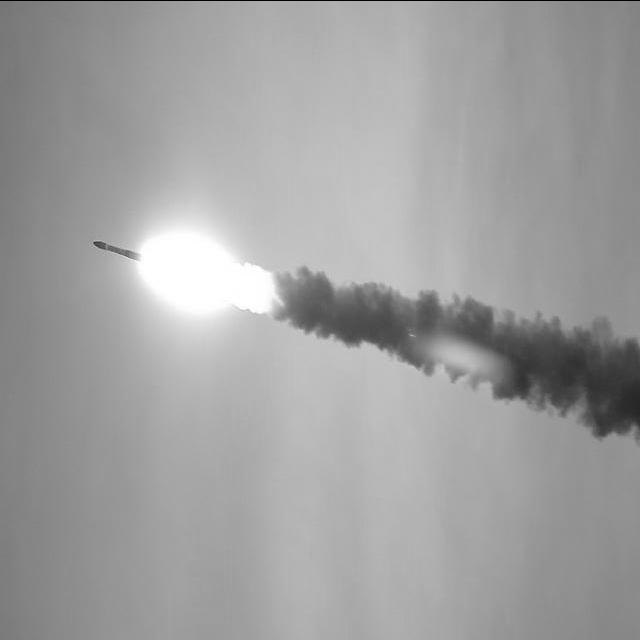missile: (90, 238, 141, 262)
